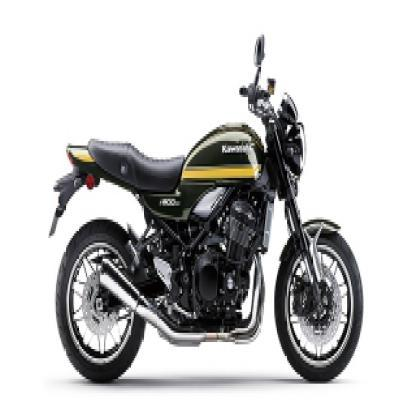Motorcycle: (40, 25, 366, 387)
